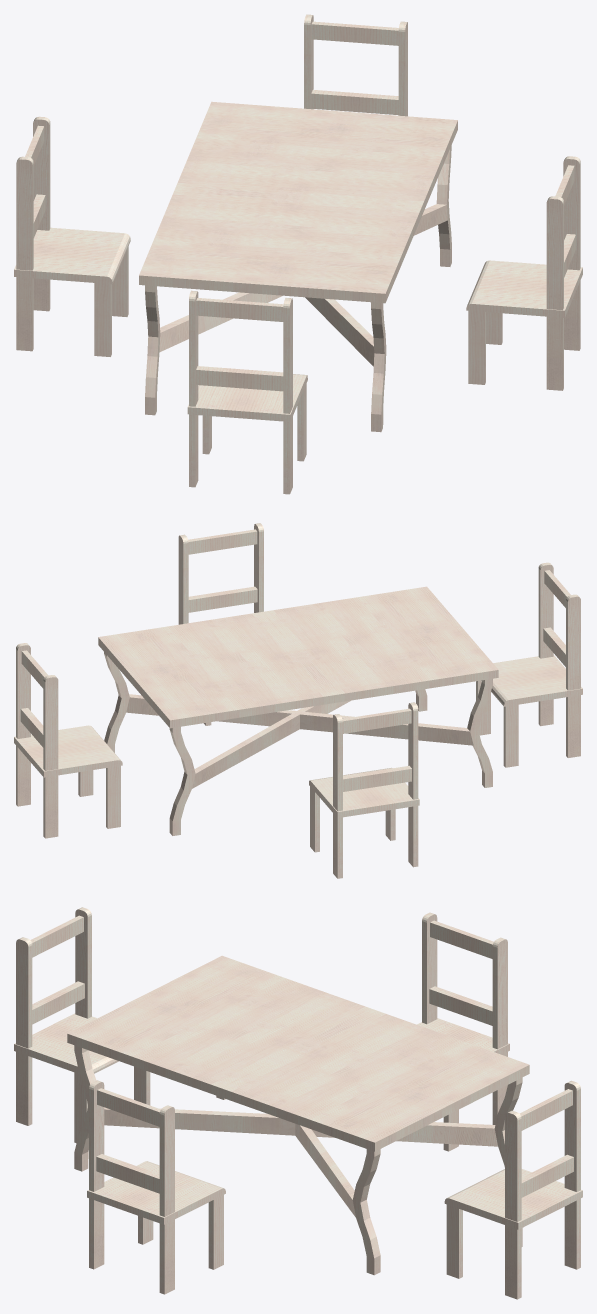
3 renders of one model, top to bottom at view 1: azimuth 30°, elevation 25°; view 2: azimuth 150°, elevation 25°; view 3: azimuth 270°, elevation 25°, orthographic. The views are drawn at different scales.
Visible parts, largest first — view 1: table_trpark001_whitewood_0, chair_trpark006_whitewood_0, chair_trpark007_whitewood_0, chair_trpark004_whitewood_0, chair_trpark005_whitewood_0; view 2: table_trpark001_whitewood_0, chair_trpark005_whitewood_0, chair_trpark004_whitewood_0, chair_trpark006_whitewood_0, chair_trpark007_whitewood_0; view 3: table_trpark001_whitewood_0, chair_trpark007_whitewood_0, chair_trpark005_whitewood_0, chair_trpark004_whitewood_0, chair_trpark006_whitewood_0.
Boxes of the visible parts, <box> form: table_trpark001_whitewood_0: <box>139,101,457,432</box>; chair_trpark006_whitewood_0: <box>14,116,130,356</box>; chair_trpark007_whitewood_0: <box>466,156,582,390</box>; chair_trpark004_whitewood_0: <box>187,290,307,494</box>; chair_trpark005_whitewood_0: <box>304,14,407,116</box>; table_trpark001_whitewood_0: <box>98,586,498,835</box>; chair_trpark005_whitewood_0: <box>14,643,122,838</box>; chair_trpark004_whitewood_0: <box>476,562,582,767</box>; chair_trpark006_whitewood_0: <box>309,702,419,878</box>; chair_trpark007_whitewood_0: <box>178,523,263,725</box>; table_trpark001_whitewood_0: <box>67,955,529,1275</box>; chair_trpark007_whitewood_0: <box>87,1080,225,1294</box>; chair_trpark005_whitewood_0: <box>444,1080,582,1299</box>; chair_trpark004_whitewood_0: <box>14,907,150,1143</box>; chair_trpark006_whitewood_0: <box>417,912,509,1151</box>.
Size of the model in its own units: 2.49 by 1.01 by 2.83.
Materials: 1 (1 with a texture image).
